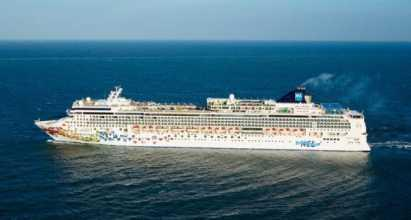youlun: (32, 88, 369, 152)
